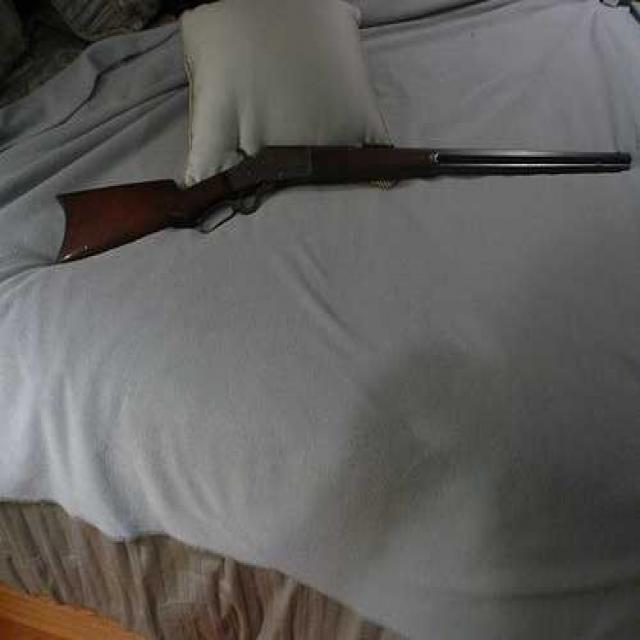weapon: (33, 94, 640, 285)
